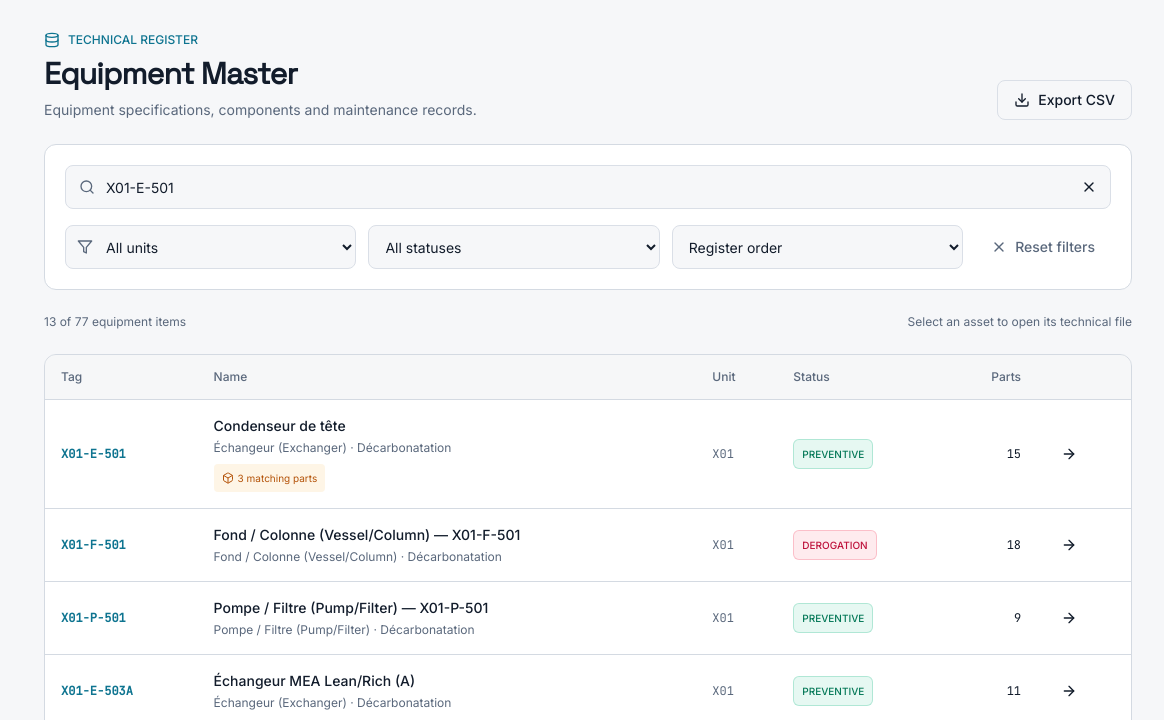
Test case: shareable equipment workflow › restores a tag filter from the URL and updates it when searching
Expected: the link "X01-E-501" is shown, [61, 446, 126, 462]
Replace the text in the search field named "Search by tag" with "no-such-equipment-xyz" at (588, 187), box [65, 165, 1111, 209]
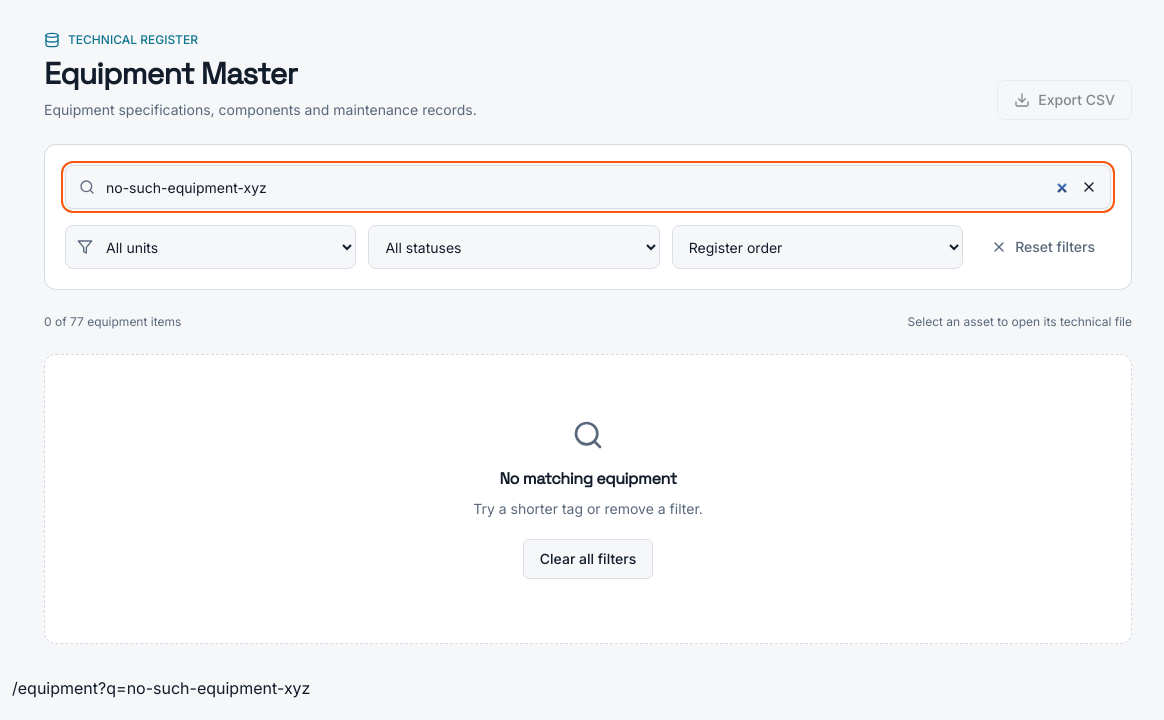
Now the heading "No matching equipment" is shown, box [499, 468, 677, 489]
Now the text named "Current URL" shows "no-such-equipment-xyz", box [98, 678, 310, 698]
